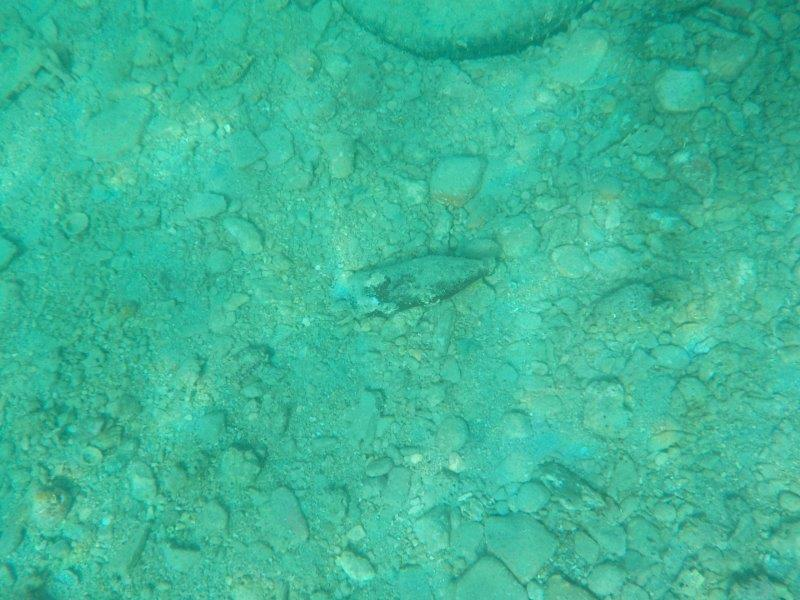bottle: (344, 242, 509, 324)
